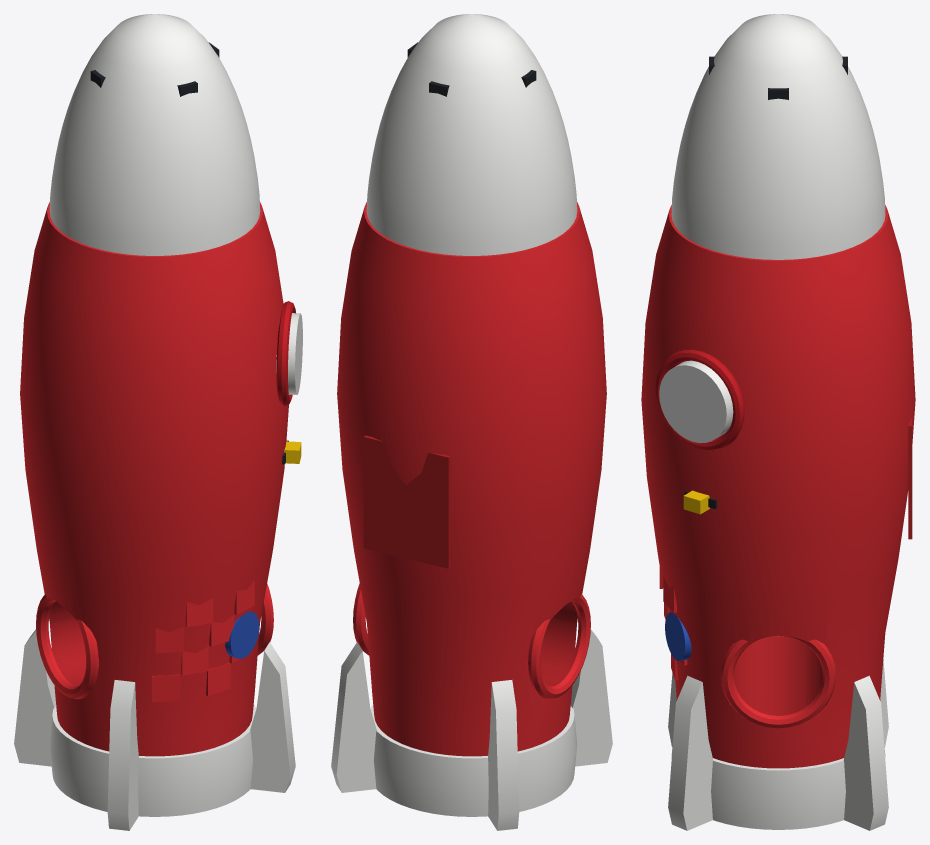
3 renders of one model, left to right at view 1: azimuth 30°, elevation 25°; view 2: azimuth 150°, elevation 25°; view 3: azimuth 270°, elevation 25°, orthographic.
Visible parts, largest first — view 1: M-13; view 2: M-13; view 3: M-13.
Boxes of the visible parts, left/top/right/bottom form: M-13: left=14, top=14, right=302, bottom=830; M-13: left=331, top=14, right=612, bottom=830; M-13: left=641, top=14, right=915, bottom=830.
Size of the model in its own units: 0.0676 by 0.205 by 0.066.
